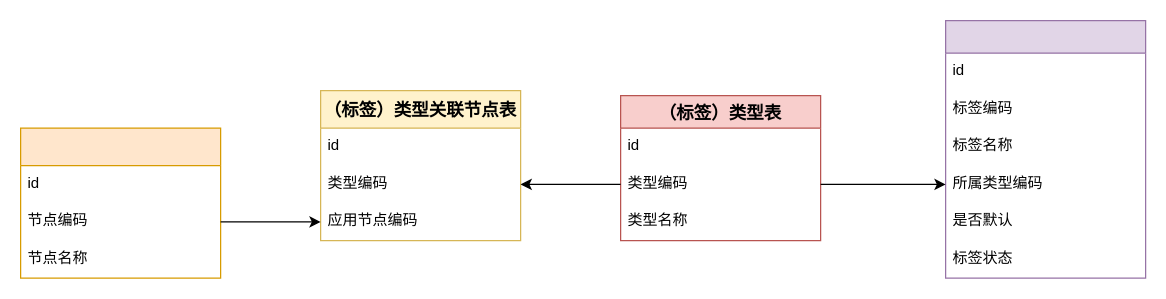
The diagram is 1166 pixels wide and 299 high, and some of its shapes have lost their labels. Each missing label, with the box of its shape:
标签表: (944, 19, 1146, 278)
（标签）节点表: (19, 127, 221, 278)
